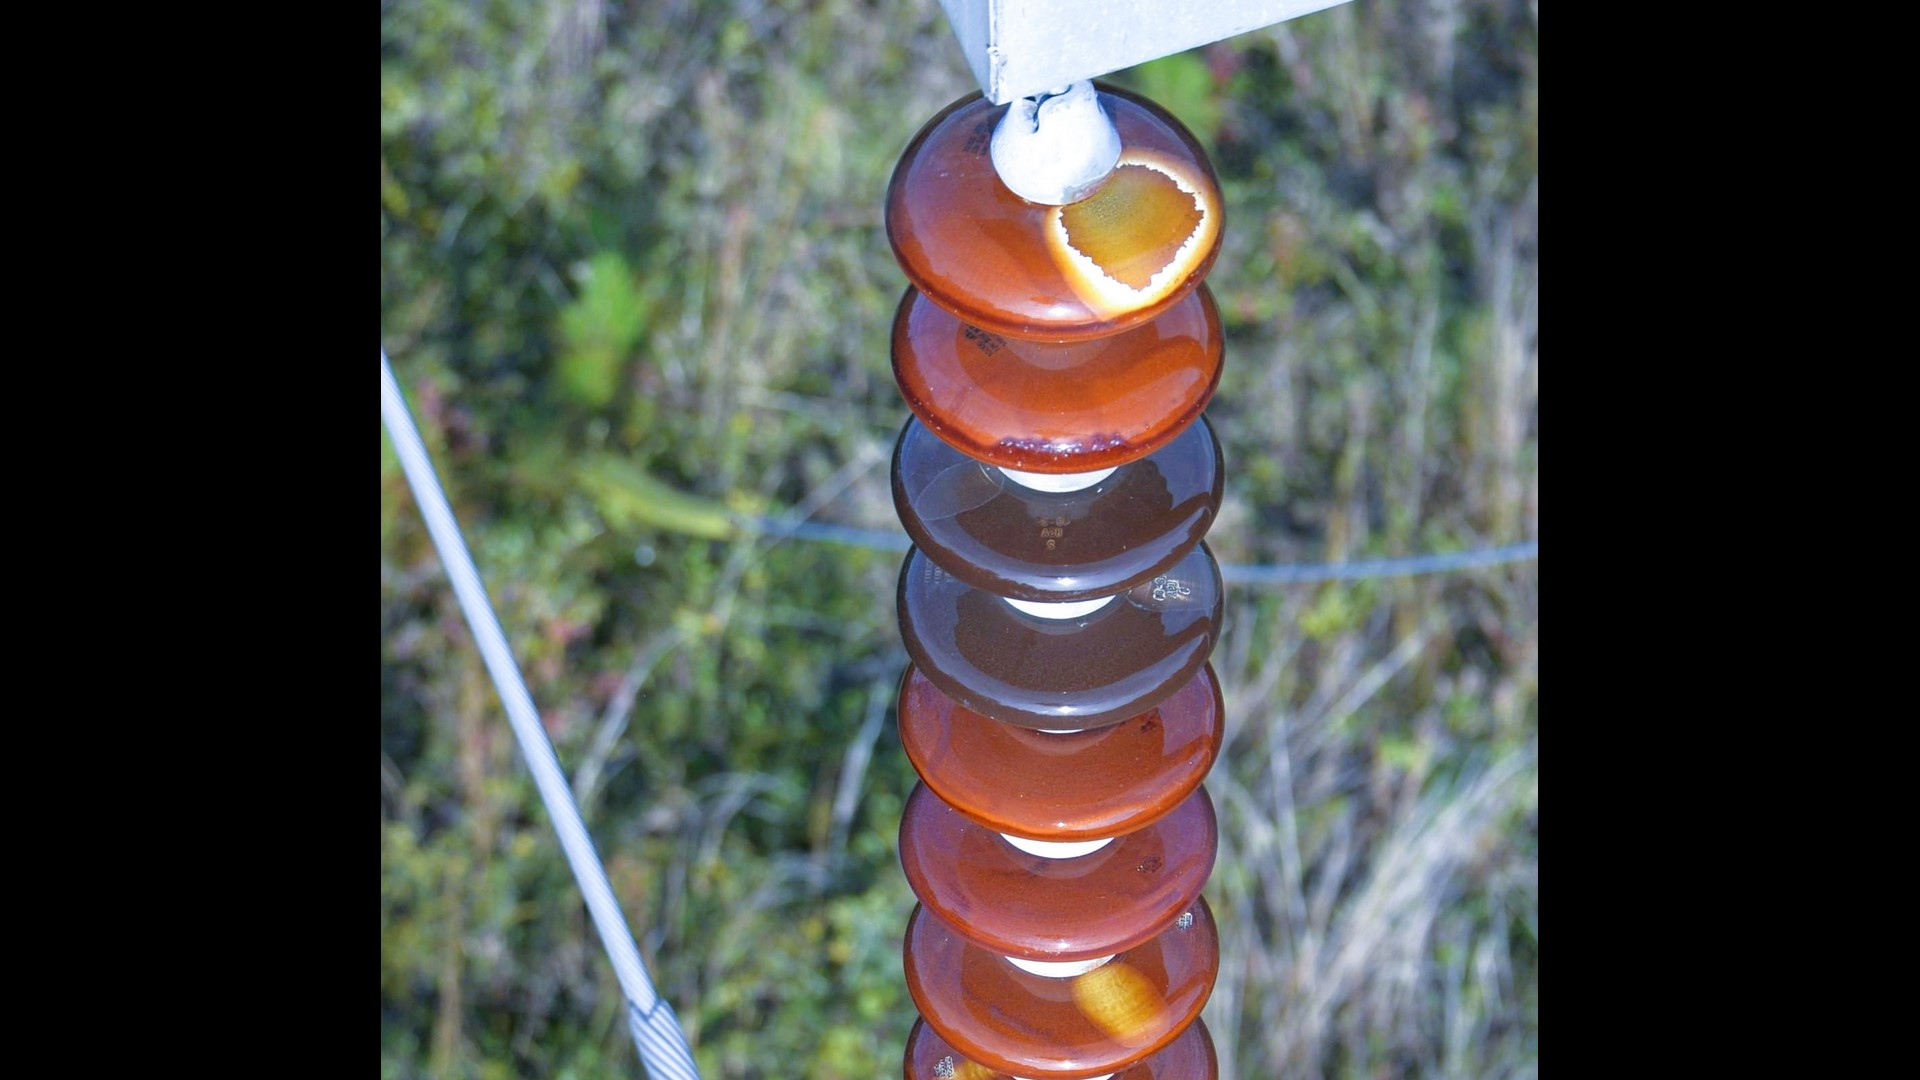Insulator flashover: (873, 69, 1237, 340)
